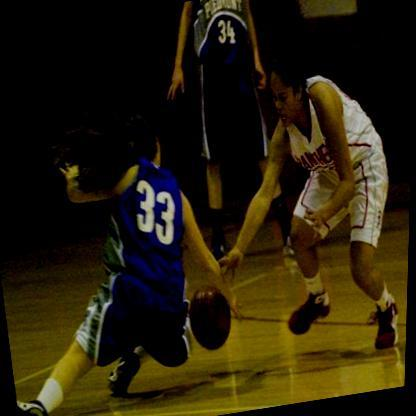basketball: (183, 279, 238, 351)
